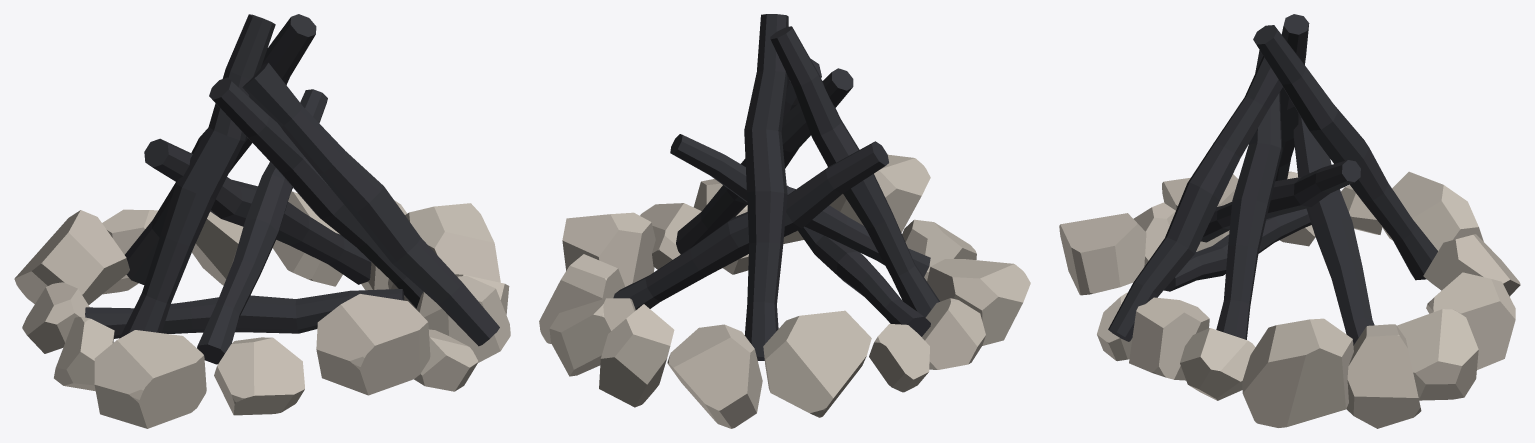
Rendered from Campfire.fbx.
The picture shows the model from 3 angles, left to right: view 1: azimuth 30°, elevation 25°; view 2: azimuth 150°, elevation 25°; view 3: azimuth 270°, elevation 25°; orthographic projection. The views are drawn at different scales.
Visible parts, largest first — view 1: Campfire; view 2: Campfire; view 3: Campfire.
Part boxes in pixels (box(x1,y1,x2,y2)): Campfire: box(14, 14, 510, 428); Campfire: box(539, 14, 1030, 428); Campfire: box(1059, 14, 1520, 428).
Size of the model in its own units: 100 by 78.04 by 99.82.
